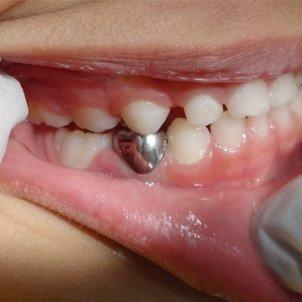crown: (105, 122, 176, 178)
